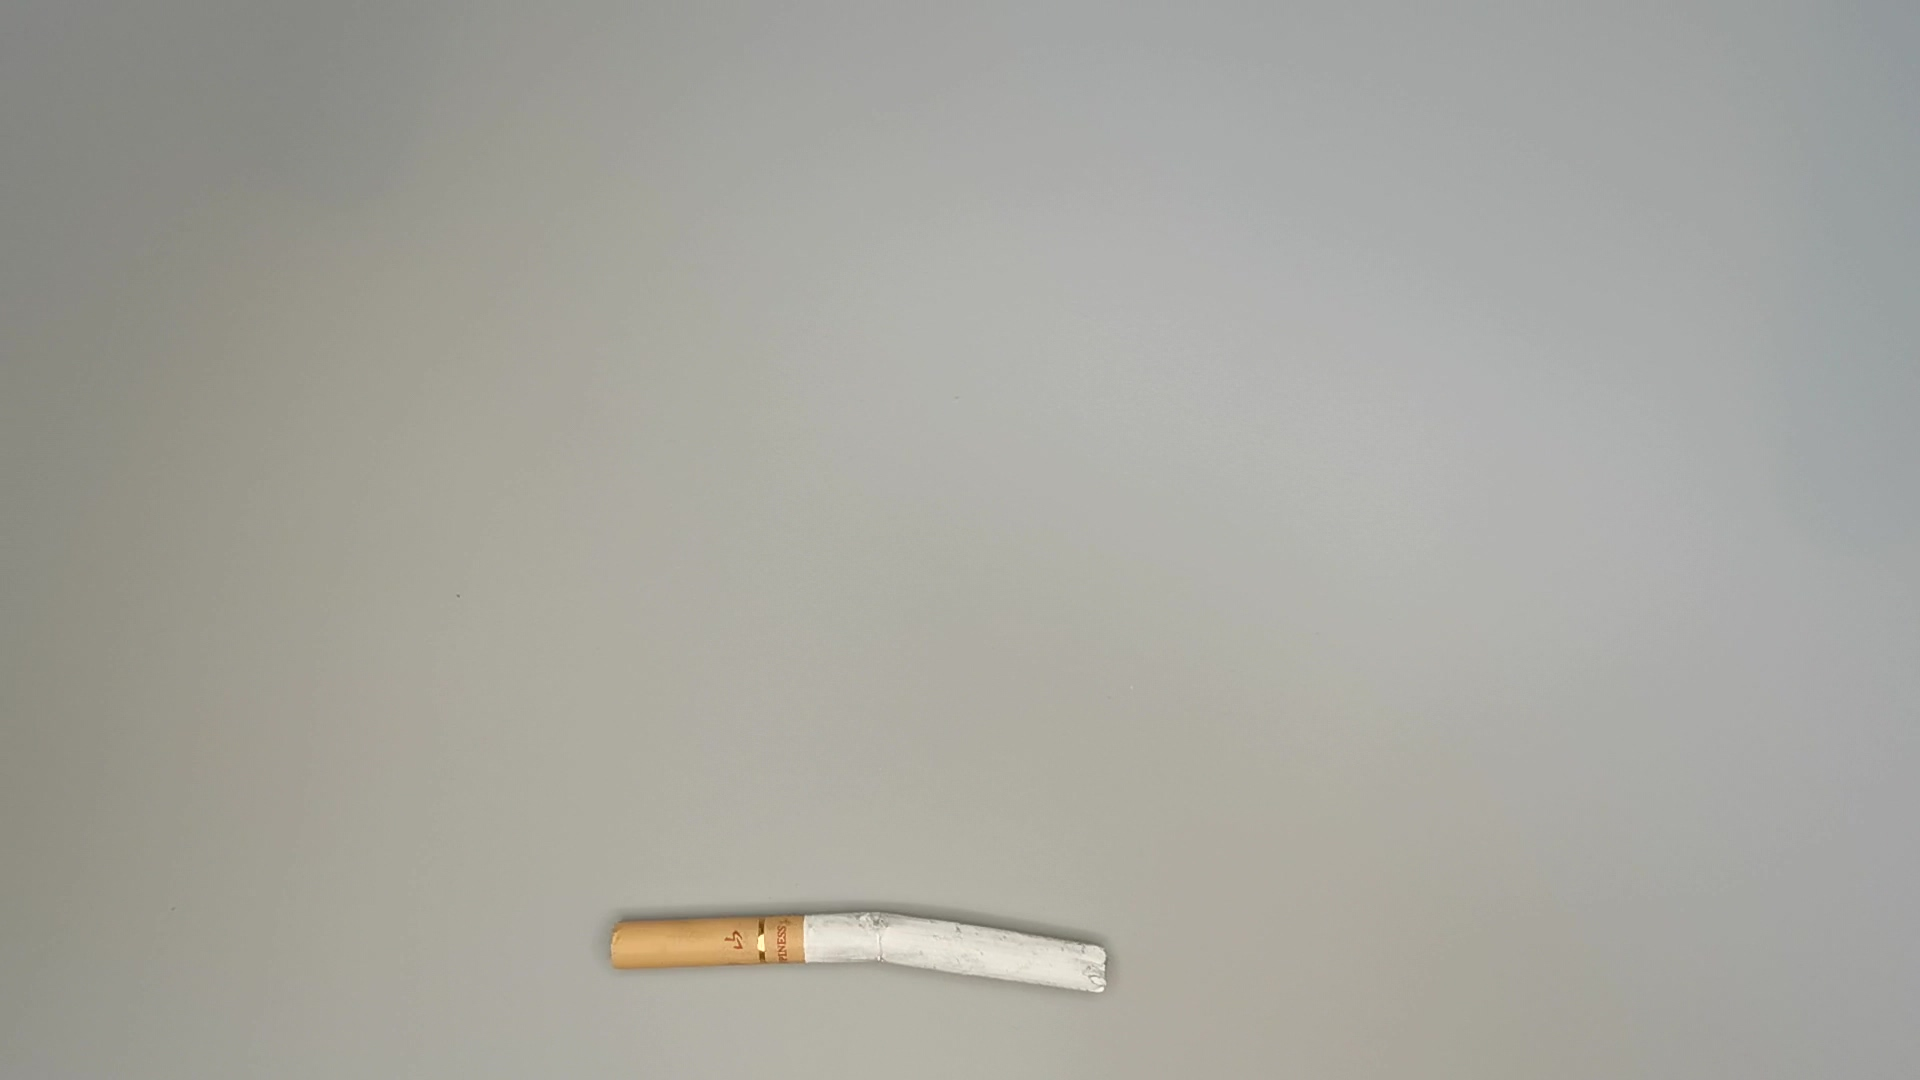cigarette: (603, 887, 1126, 1022)
